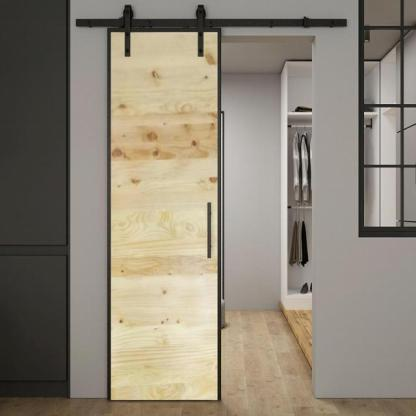door: (95, 12, 326, 411)
